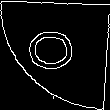O_E: (27, 32, 83, 78)
